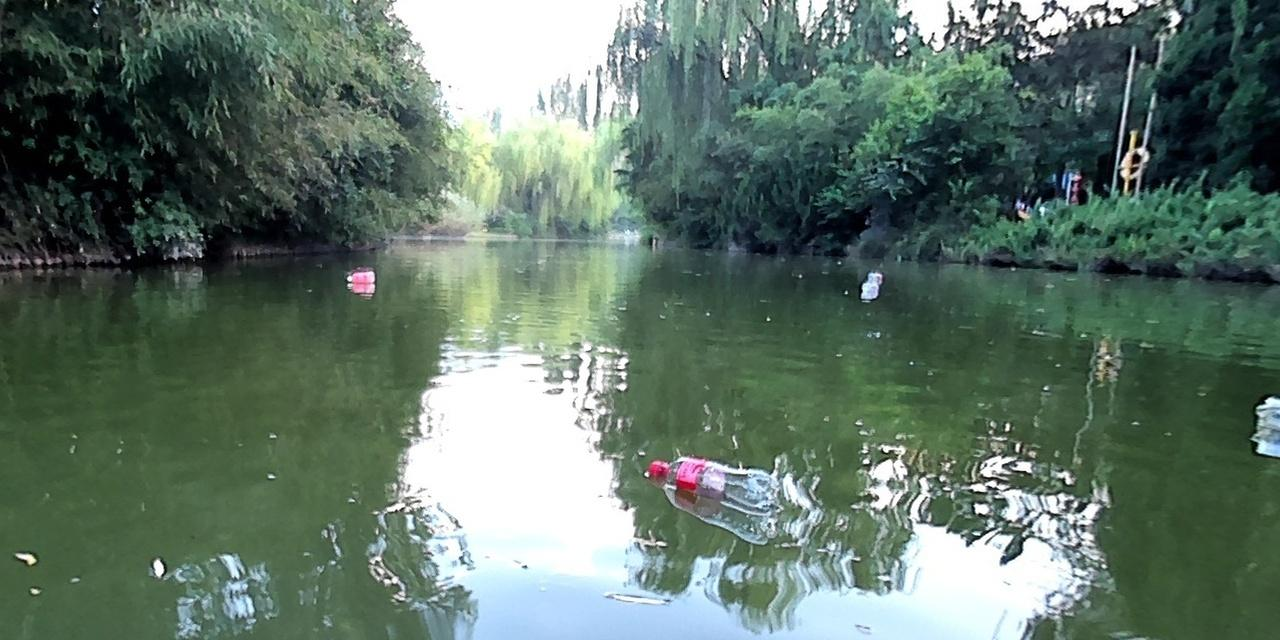bottle: (647, 457, 765, 509), (345, 269, 371, 284), (859, 281, 876, 296)
